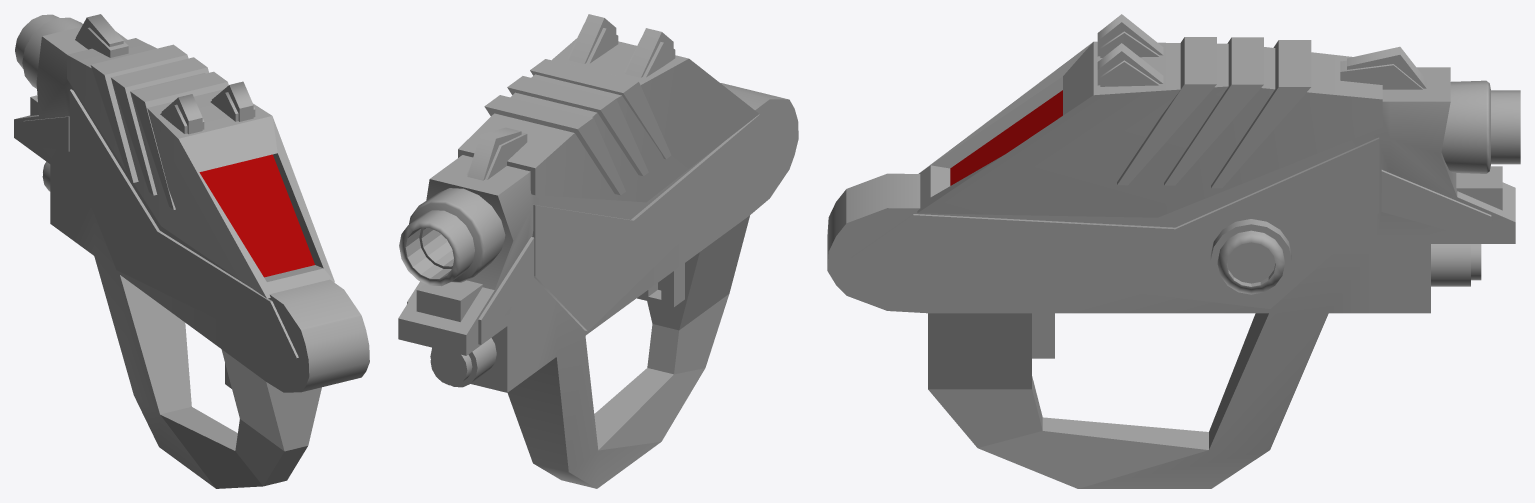
File: Weapon01-FlipedUV.fbx
3 views of the same model, side by side, from view 1: azimuth 30°, elevation 25°; view 2: azimuth 150°, elevation 25°; view 3: azimuth 270°, elevation 25° (orthographic). The views are drawn at different scales.
Visible parts, largest first — view 1: Weapon; view 2: Weapon; view 3: Weapon.
Boxes of the visible parts, x1,y1,x2,y2 form: Weapon: (14,14,369,488); Weapon: (398,14,798,488); Weapon: (827,14,1520,488).
Bounding box in the file's own units: 2.1 × 8 × 11.27.
